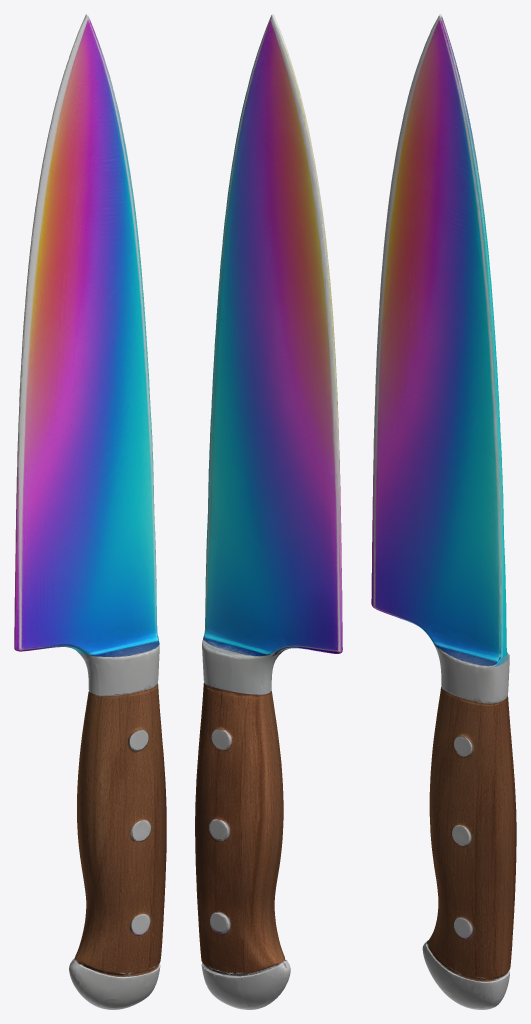
The model's file is KnifeModel.glb.
3 renders of one model, left to right at view 1: azimuth 30°, elevation 25°; view 2: azimuth 150°, elevation 25°; view 3: azimuth 330°, elevation 25°, orthographic.
Size of the model in its own units: 0.288 by 1.9 by 0.1125.
1 material, 1 textured.
